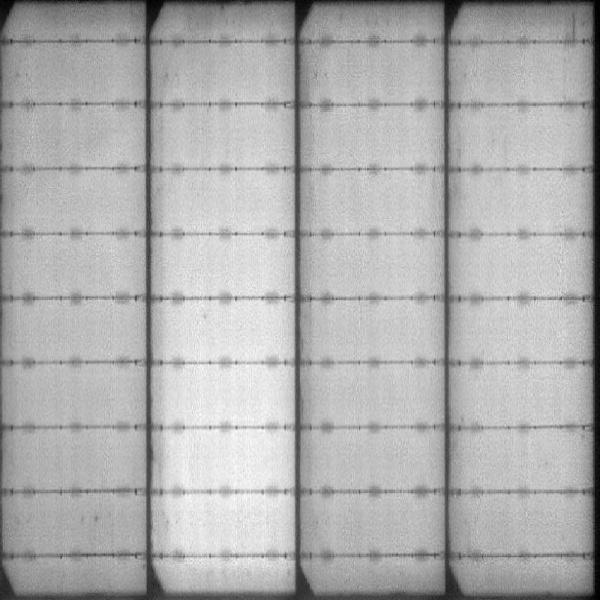scratch: (567, 11, 579, 45)
